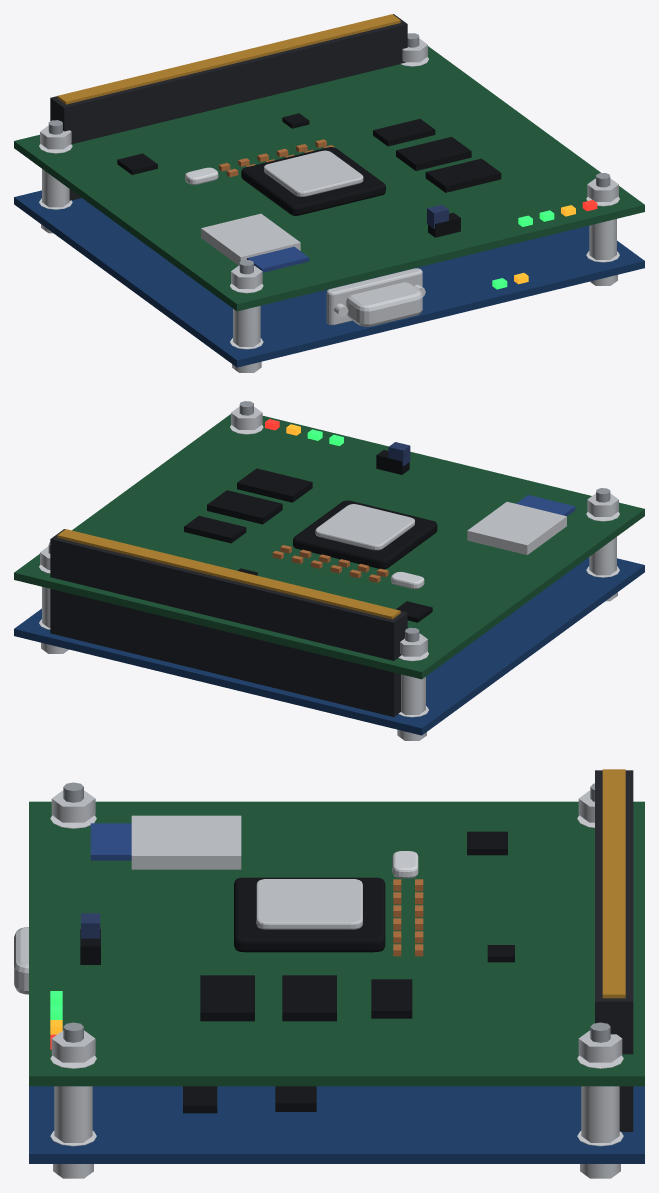
File: computer-basic.glb
3 views of the same model, one above another, from view 1: azimuth 30°, elevation 25°; view 2: azimuth 150°, elevation 25°; view 3: azimuth 270°, elevation 25° (orthographic). The views are drawn at different scales.
Visible parts, largest first — view 1: obc-board-pcb, io-board-pcb, obc-board-header, memory, obc-board-header-pins, cpu, cpu-lid, sd-holder, standoffs, debug-port-shell, nuts, debug-port-flange (+4 smaller); view 2: obc-board-pcb, io-board-pcb, obc-board-header, io-board-header, memory, obc-board-header-pins, stack-connector, sd-holder, cpu, cpu-lid, standoffs, nuts (+5 smaller); view 3: obc-board-pcb, io-board-pcb, memory, cpu, sd-holder, obc-board-header-pins, cpu-lid, obc-board-header, standoffs, nuts, io-ics, sd-card (+8 smaller).
Boxes of the visible parts, bbox=[...] form: obc-board-pcb: bbox=[14, 46, 644, 311]; io-board-pcb: bbox=[14, 190, 644, 367]; obc-board-header: bbox=[50, 14, 407, 144]; memory: bbox=[117, 113, 501, 192]; obc-board-header-pins: bbox=[57, 14, 400, 104]; cpu: bbox=[241, 147, 385, 215]; cpu-lid: bbox=[264, 150, 363, 196]; sd-holder: bbox=[201, 213, 300, 265]; standoffs: bbox=[42, 169, 616, 346]; debug-port-shell: bbox=[346, 282, 422, 326]; nuts: bbox=[40, 39, 618, 288]; debug-port-flange: bbox=[326, 268, 422, 325]; obc-board-pcb: bbox=[14, 414, 644, 679]; io-board-pcb: bbox=[14, 557, 644, 735]; obc-board-header: bbox=[50, 529, 407, 660]; io-board-header: bbox=[50, 595, 400, 716]; memory: bbox=[184, 468, 432, 622]; obc-board-header-pins: bbox=[57, 529, 400, 619]; stack-connector: bbox=[50, 589, 400, 682]; sd-holder: bbox=[467, 501, 566, 554]; cpu: bbox=[293, 500, 437, 569]; cpu-lid: bbox=[315, 504, 414, 550]; standoffs: bbox=[42, 537, 616, 714]; nuts: bbox=[40, 407, 618, 656]; obc-board-pcb: bbox=[29, 801, 644, 1086]; io-board-pcb: bbox=[29, 1086, 644, 1163]; memory: bbox=[200, 831, 514, 1021]; cpu: bbox=[234, 877, 385, 952]; sd-holder: bbox=[131, 815, 241, 869]; obc-board-header-pins: bbox=[602, 769, 625, 998]; cpu-lid: bbox=[256, 879, 362, 929]; obc-board-header: bbox=[595, 770, 633, 1054]; standoffs: bbox=[54, 1086, 619, 1142]; nuts: bbox=[51, 790, 622, 1062]; io-ics: bbox=[183, 1086, 316, 1113]; sd-card: bbox=[90, 823, 131, 860].
Size of the model in its own units: 0.095 by 0.0273 by 0.0922.
